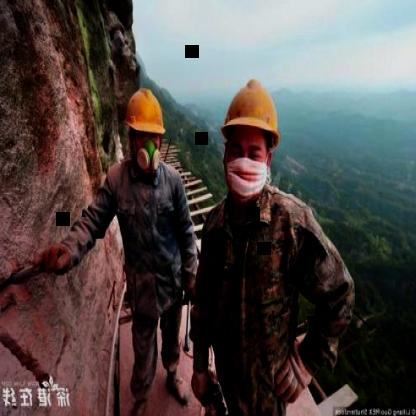helmet: (218, 63, 288, 206), (120, 78, 170, 172)
